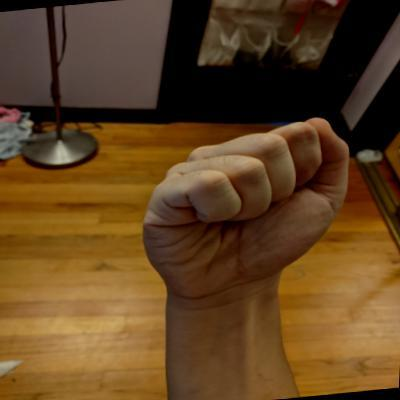hand: (130, 112, 369, 315)
